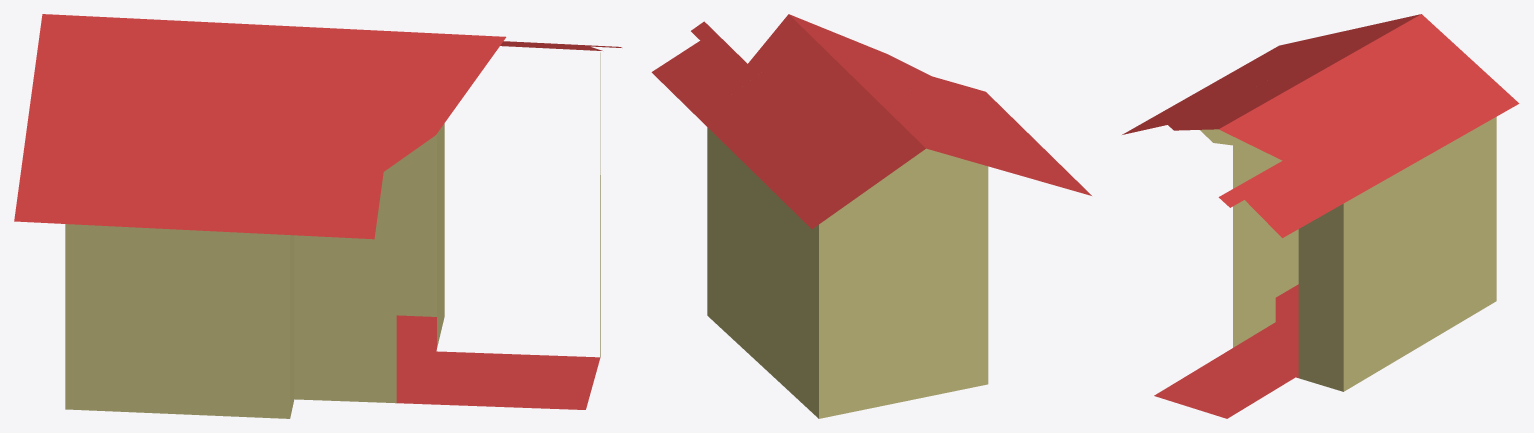
3 views of the same model, side by side, from view 1: azimuth 30°, elevation 25°; view 2: azimuth 150°, elevation 25°; view 3: azimuth 270°, elevation 25° (orthographic). The views are drawn at different scales.
Bounding box in the file's own units: 16.96 × 13.57 × 9.56.
